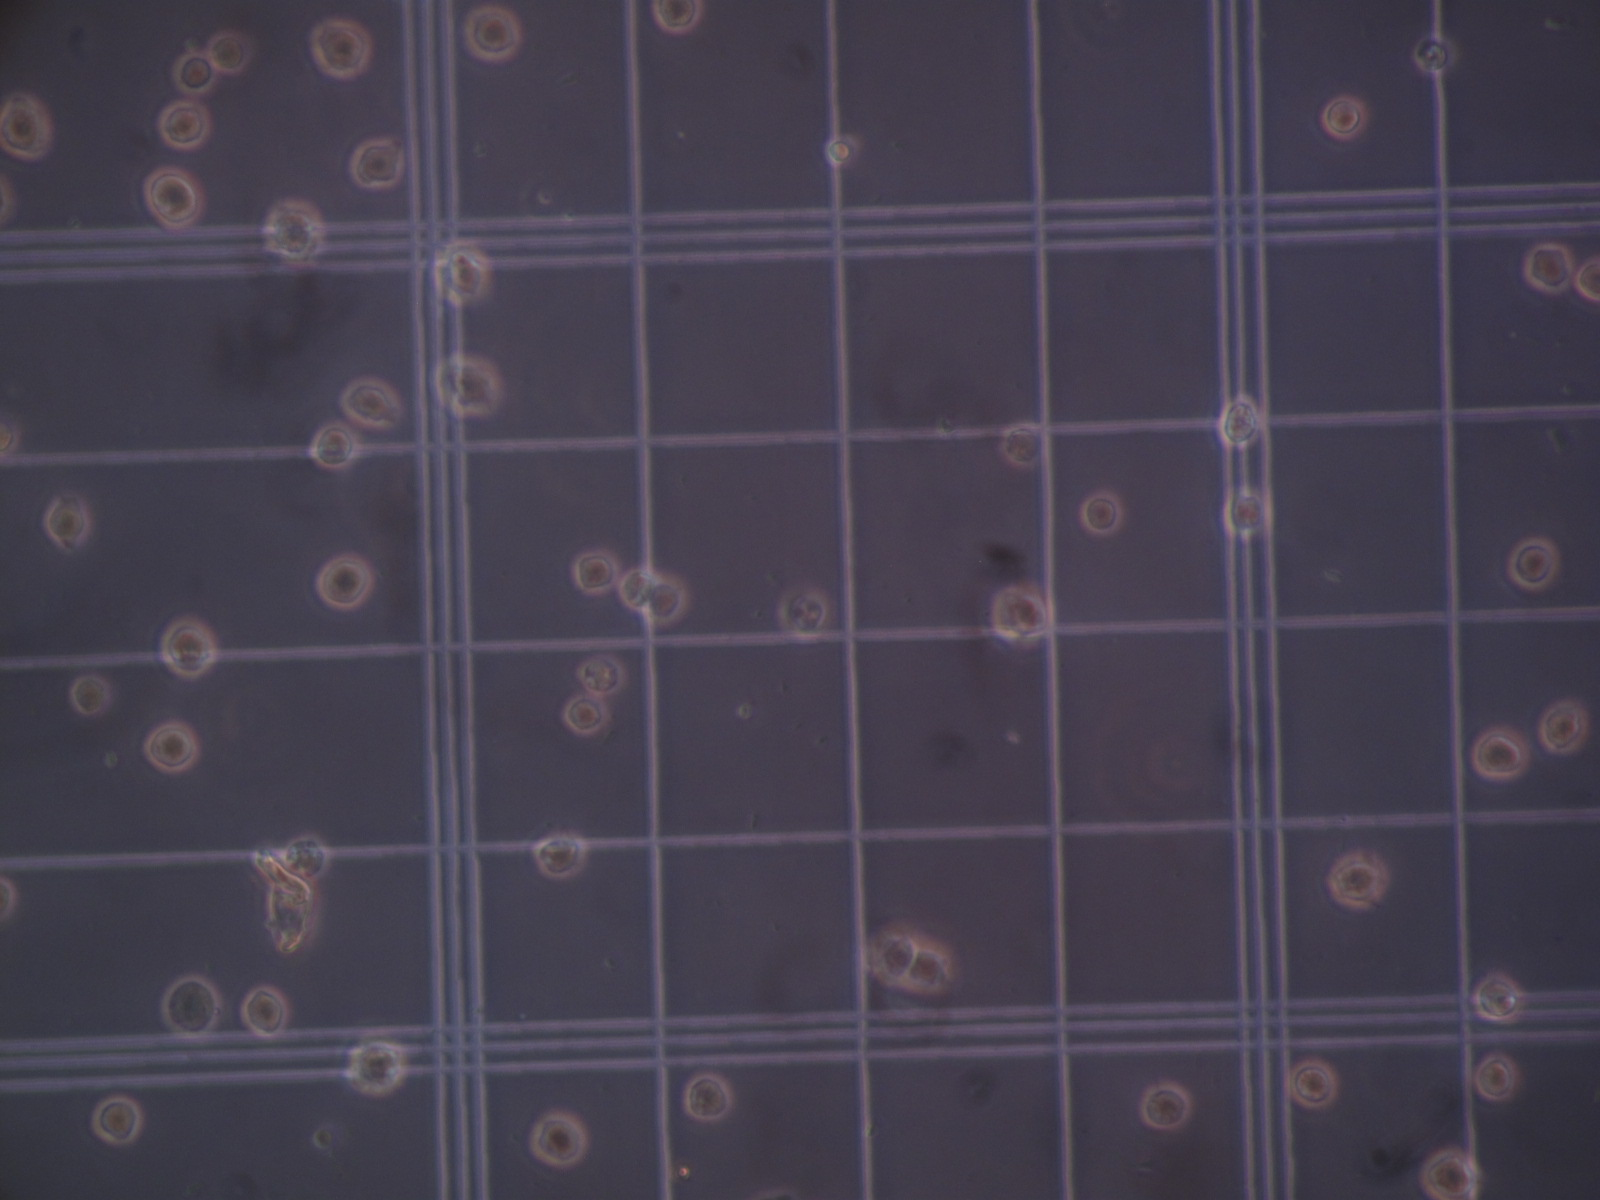hemo: (309, 3, 373, 78), (1327, 846, 1390, 909), (145, 169, 205, 233), (437, 354, 501, 415), (265, 198, 323, 263), (868, 920, 920, 989), (435, 239, 493, 301), (163, 976, 220, 1037), (1, 91, 52, 161), (161, 615, 215, 679), (1419, 1146, 1482, 1200), (991, 585, 1051, 642), (530, 1111, 587, 1168), (464, 8, 524, 62), (316, 553, 373, 610), (1471, 725, 1531, 779), (339, 378, 401, 429), (1504, 537, 1558, 590), (1285, 1058, 1339, 1111), (142, 720, 198, 771), (1538, 700, 1589, 756), (349, 137, 402, 190), (1522, 243, 1574, 297), (774, 589, 831, 635), (645, 570, 690, 629), (1474, 971, 1524, 1024), (530, 834, 588, 880), (241, 986, 290, 1039), (348, 1046, 403, 1093), (905, 943, 955, 993), (682, 1074, 734, 1122), (1320, 93, 1371, 142), (1139, 1082, 1192, 1128), (43, 494, 87, 550), (93, 1094, 141, 1145), (157, 105, 210, 150), (1220, 395, 1261, 450), (1078, 488, 1125, 536), (1225, 487, 1266, 539), (1477, 1053, 1521, 1102), (312, 422, 357, 471), (207, 29, 252, 74), (282, 834, 328, 880), (997, 424, 1044, 466), (572, 550, 619, 592), (576, 654, 624, 695), (562, 696, 611, 735), (649, 1, 706, 34), (171, 52, 215, 93), (71, 676, 110, 716), (619, 568, 656, 610), (1575, 258, 1600, 301)
